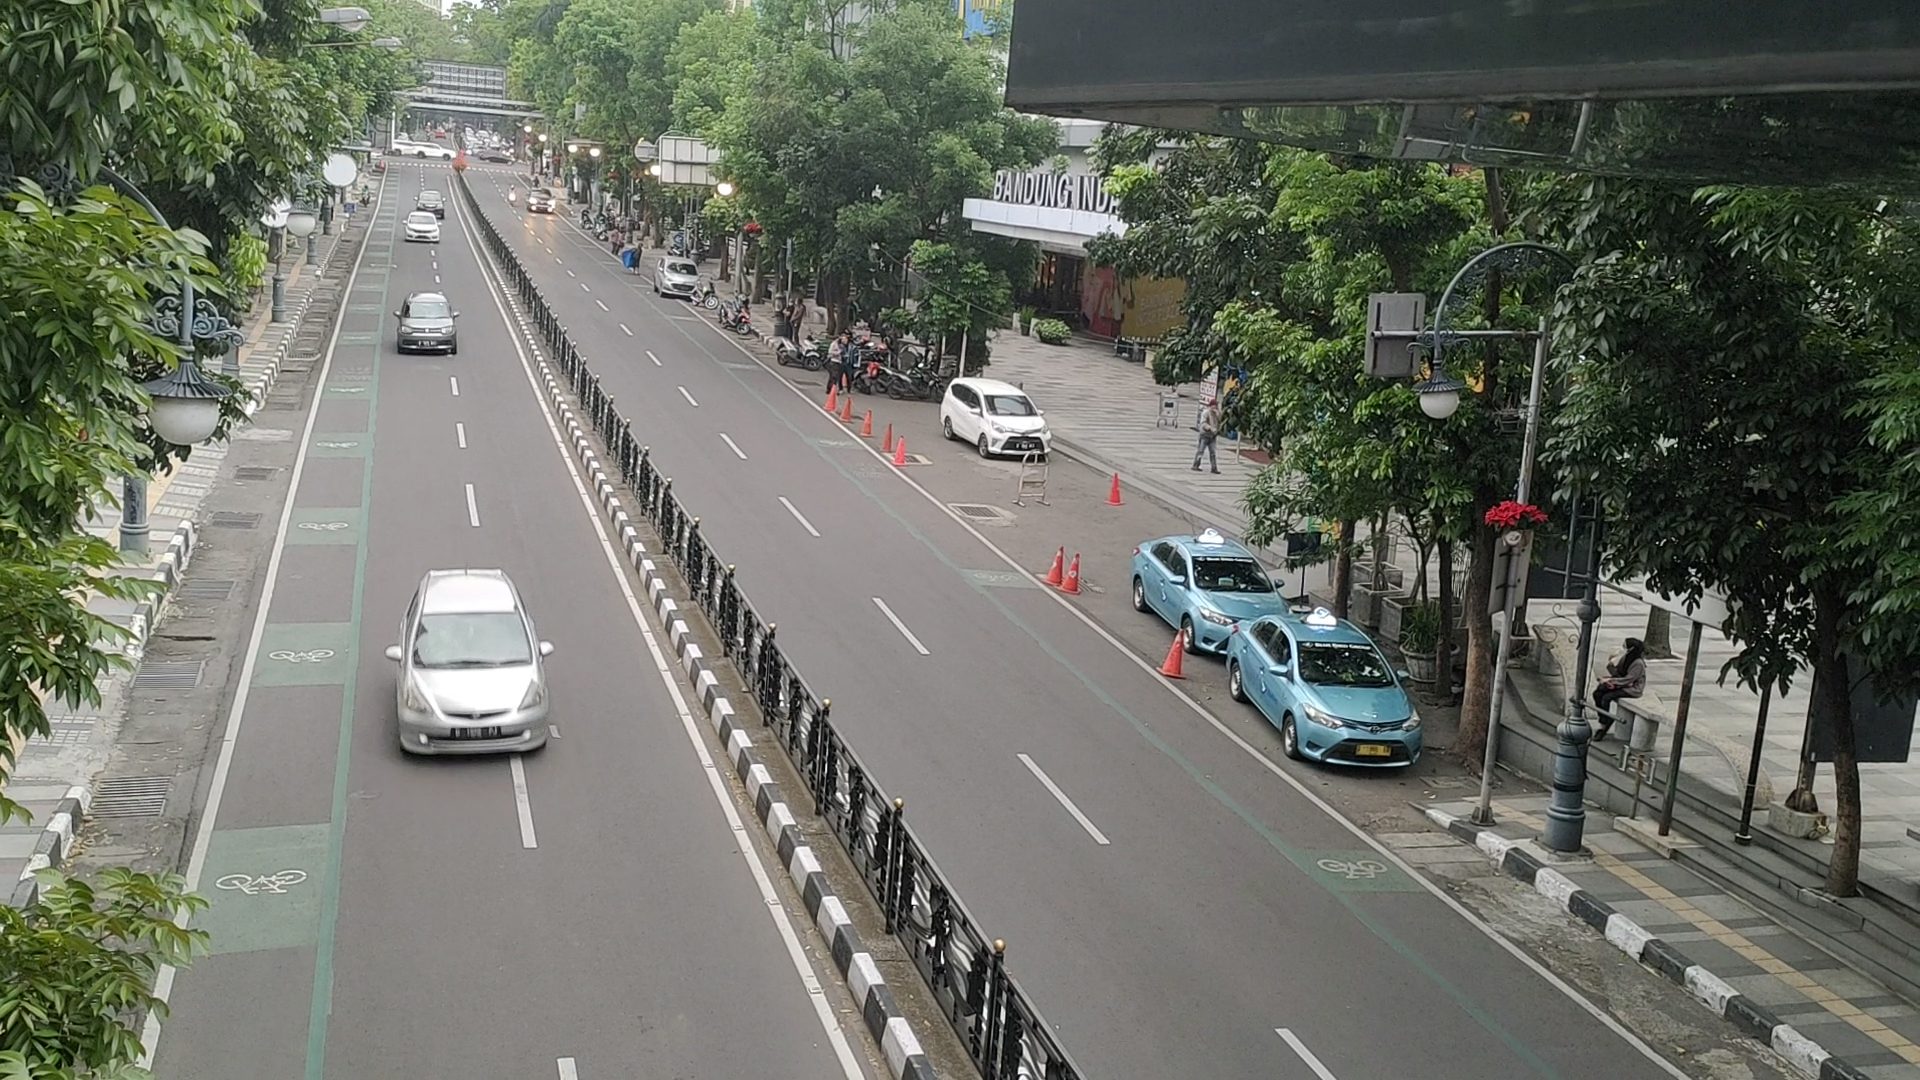mobil: (392, 609, 551, 760), (1283, 638, 1423, 769), (978, 388, 1052, 462), (392, 299, 459, 356)
